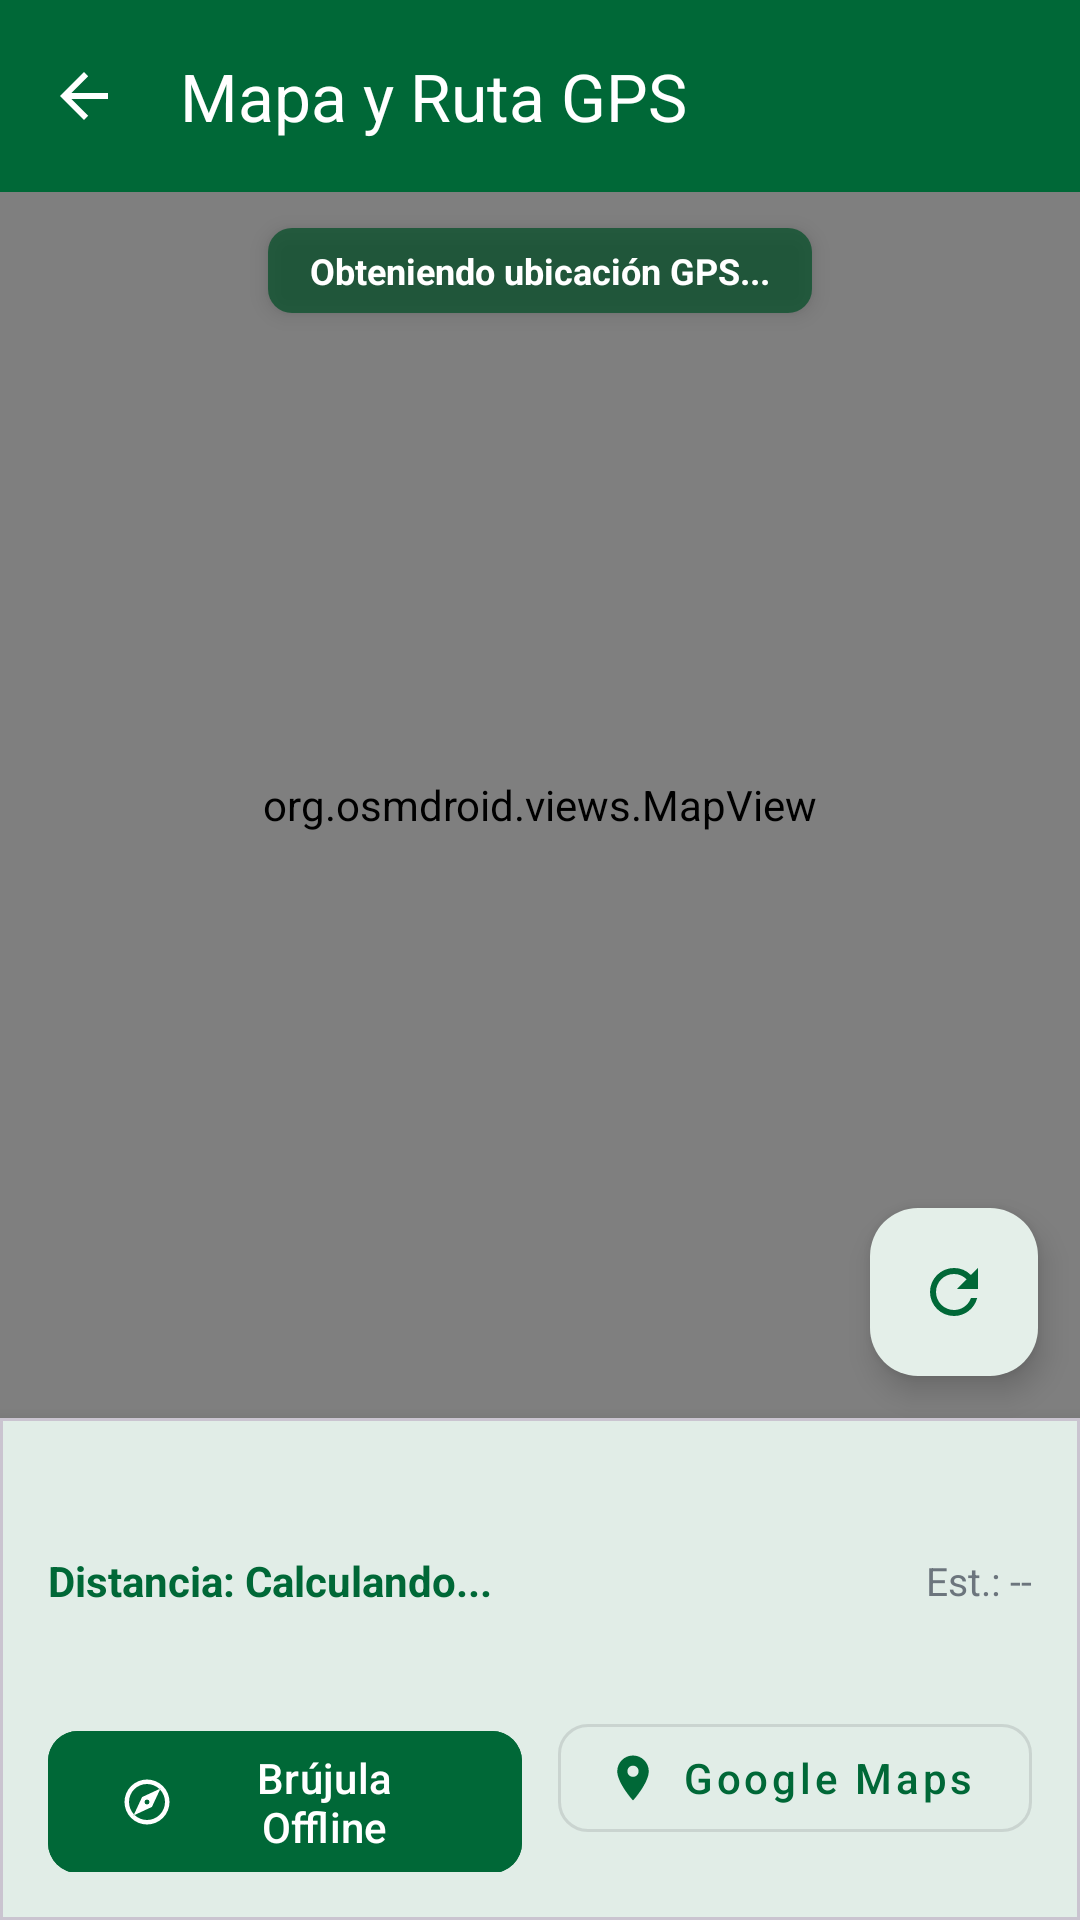

Icons on this 1080 x 1920 Android screen, each with its box as {"left": x1, "top": y1, "right": x2, "bottom": y2}:
Recalcular ruta GPS: {"left": 870, "top": 1208, "right": 1038, "bottom": 1376}
